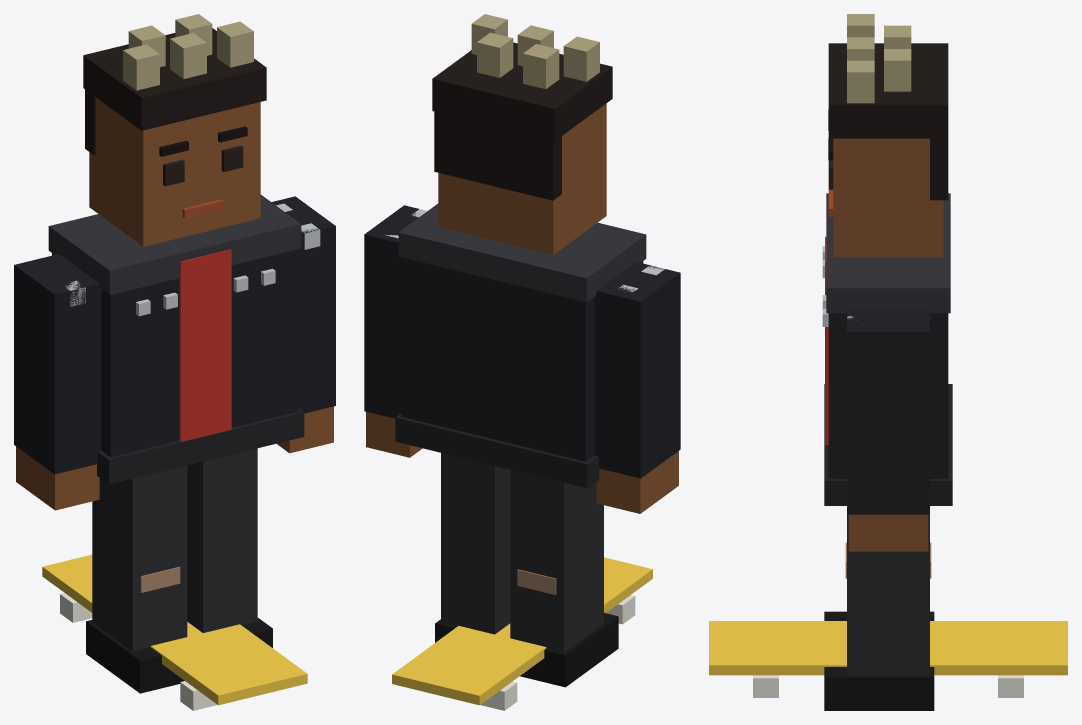
The model's file is teen_punk_3.glb.
3 renders of one model, left to right at view 1: azimuth 30°, elevation 25°; view 2: azimuth 150°, elevation 25°; view 3: azimuth 270°, elevation 25°, orthographic. The views are drawn at different scales.
Parts seen in each view (by area): view 1: Box14, Box23, Box10, Box7, Box1, Box16, Box15, Box36, Box29, Box3, Box21, Box9 (+12 smaller); view 2: Box14, Box10, Box7, Box23, Box1, Box16, Box29, Box36, Box35, Box3, Box21, Box9 (+9 smaller); view 3: Box3, Box36, Box23, Box1, Box29, Box16, Box14, Box2, Box6, Box21, Box30, Box31 (+7 smaller).
Boxes of the visible parts, x1,y1,x2,y2 form: Box14: [52, 249, 297, 457]; Box23: [89, 97, 260, 246]; Box10: [14, 254, 101, 474]; Box7: [92, 465, 187, 651]; Box1: [187, 448, 257, 632]; Box16: [48, 194, 301, 294]; Box15: [179, 249, 231, 441]; Box36: [42, 554, 307, 705]; Box29: [83, 28, 266, 130]; Box3: [271, 196, 335, 413]; Box21: [97, 408, 304, 484]; Box9: [86, 620, 184, 693]; Box14: [401, 257, 643, 461]; Box10: [594, 262, 680, 478]; Box7: [510, 470, 603, 652]; Box23: [438, 103, 606, 254]; Box1: [441, 453, 510, 634]; Box16: [398, 203, 646, 302]; Box29: [432, 42, 612, 140]; Box36: [392, 557, 652, 705]; Box35: [434, 108, 561, 200]; Box3: [364, 205, 418, 418]; Box21: [395, 413, 599, 488]; Box9: [520, 613, 618, 687]; Box3: [847, 309, 929, 514]; Box36: [709, 621, 1067, 675]; Box23: [833, 138, 943, 257]; Box1: [847, 514, 929, 675]; Box29: [828, 43, 948, 138]; Box16: [826, 193, 950, 313]; Box14: [828, 313, 948, 478]; Box2: [824, 667, 934, 710]; Box6: [848, 514, 928, 551]; Box21: [824, 384, 952, 505]; Box30: [847, 60, 874, 103]; Box31: [884, 49, 911, 91].
Bounding box in the file's own units: 0.756 × 1.6 × 0.82.
